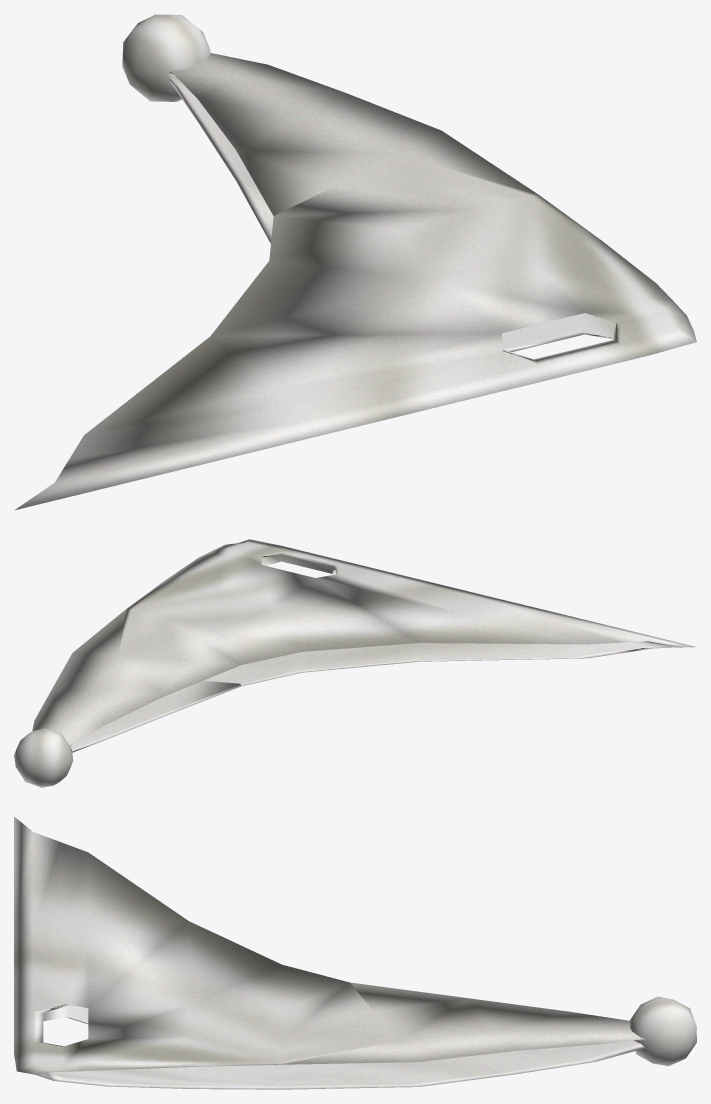
File: ClothMask_WorldItem.fbx
The picture shows the model from 3 angles, top to bottom: view 1: azimuth 30°, elevation 25°; view 2: azimuth 150°, elevation 25°; view 3: azimuth 270°, elevation 25°; orthographic projection. The views are drawn at different scales.
Visible parts, largest first — view 1: Icosphere.001; view 2: Icosphere.001; view 3: Icosphere.001.
Part boxes in pixels (left/top/right/bottom): Icosphere.001: left=15, top=14, right=696, bottom=509; Icosphere.001: left=14, top=539, right=695, bottom=787; Icosphere.001: left=14, top=816, right=696, bottom=1089.
Bounding box in the file's own units: 0.4094 × 0.0441 × 0.451.
